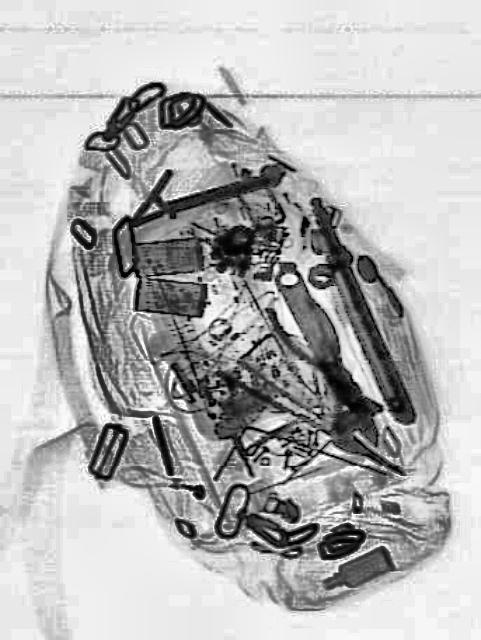Pliers: (222, 354, 406, 478), (261, 272, 385, 431)
Wrench: (260, 253, 384, 467)
